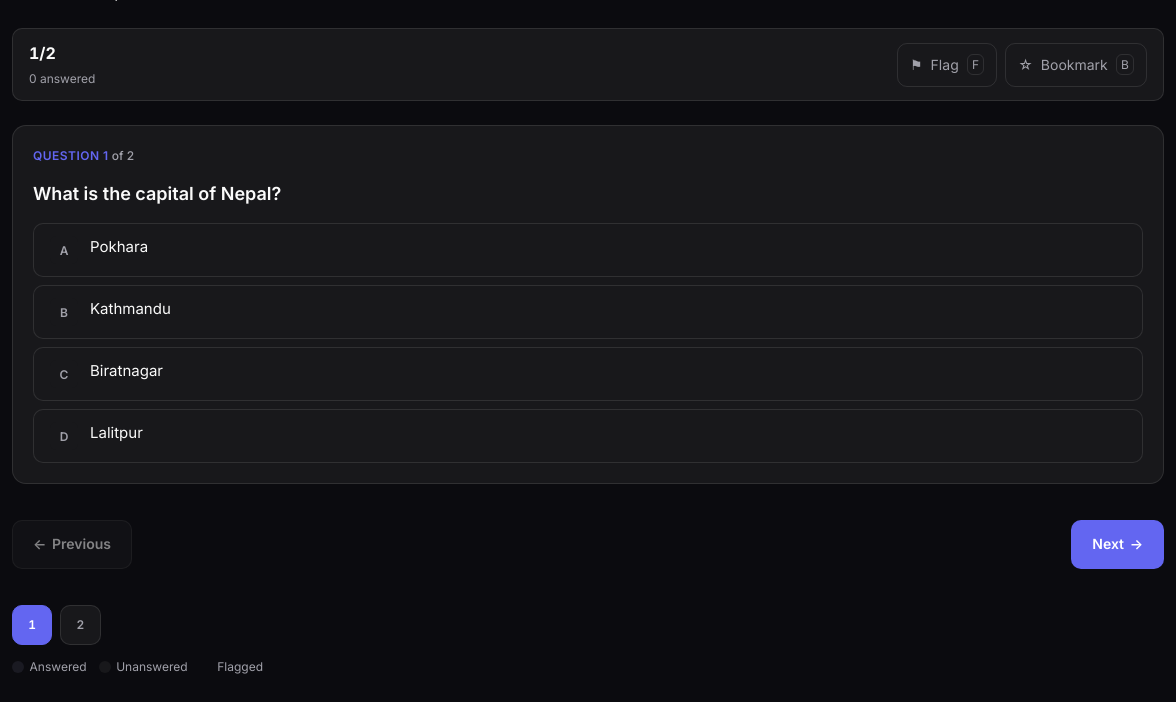
Test case: TopicPractice › keeps the chosen answer and its verdict when navigating back
Expected: the text "Question 1" is shown, [33, 146, 134, 165]
Note: Answer question 1 correctly.
Click the text "Kathmandu": click(130, 309) [90, 298, 171, 320]
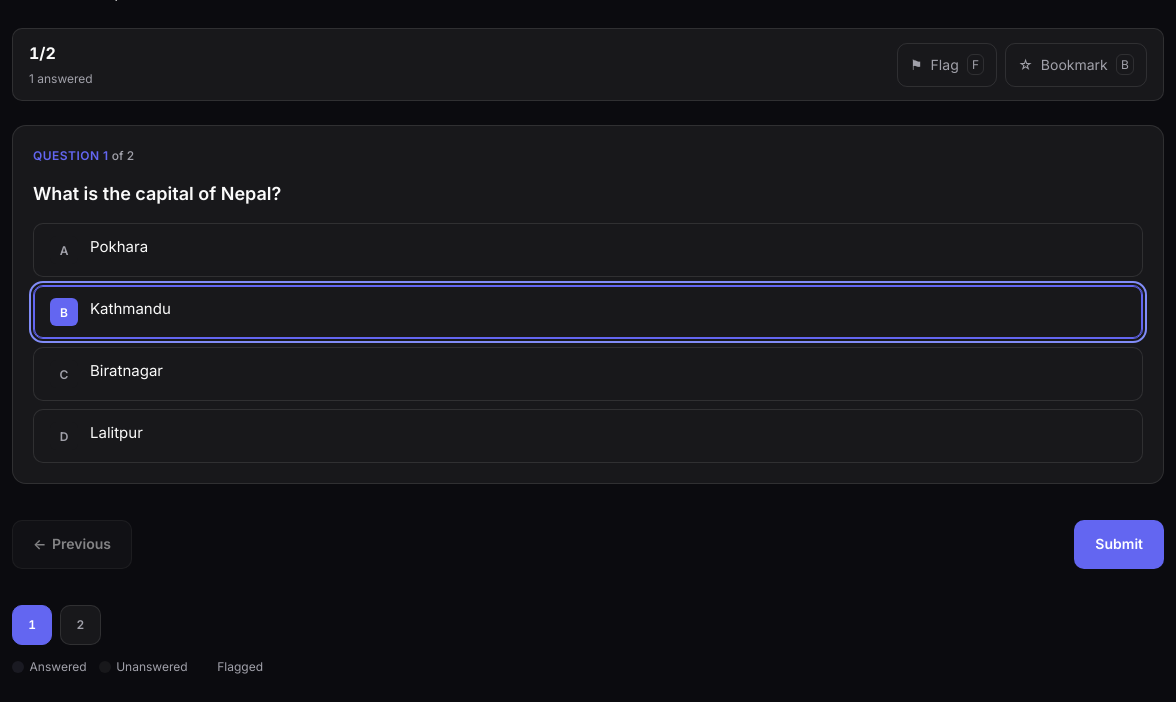
Click the button "Submit": click(1119, 545) [1074, 520, 1164, 569]
(page scrolled)
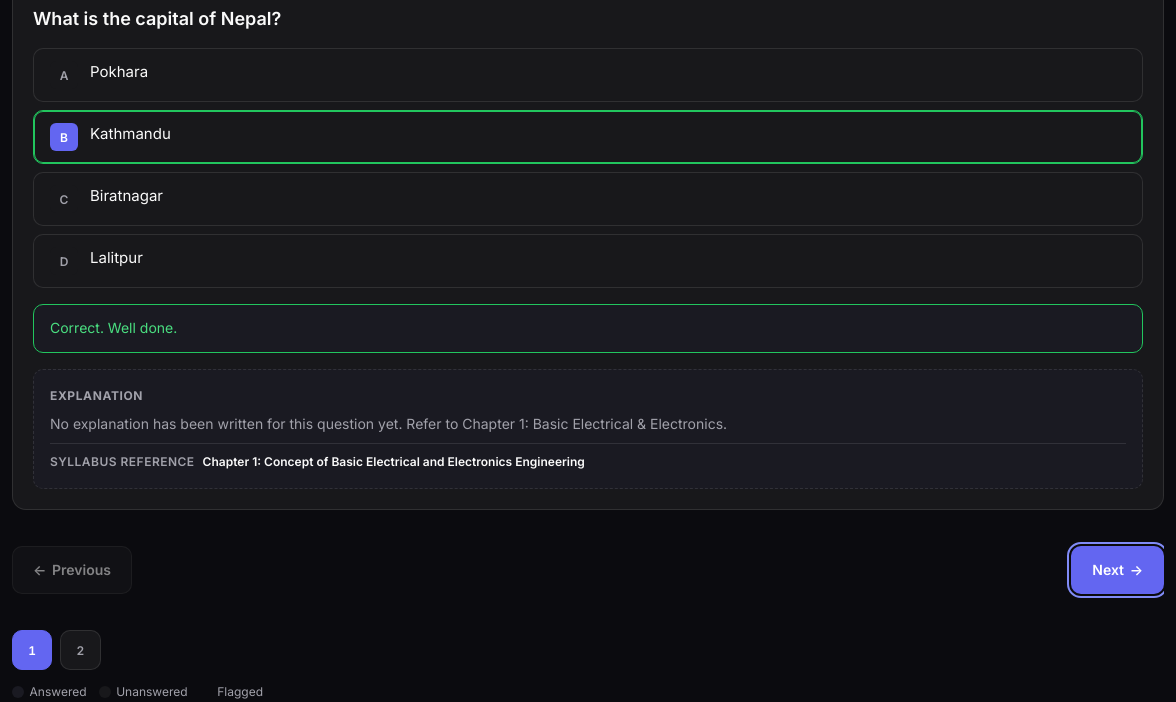
Now the message shows "Correct", box [50, 320, 177, 336]
Note: Move forward, then back.
Click the button "Next →": click(1118, 570) [1071, 546, 1164, 594]
(page scrolled)
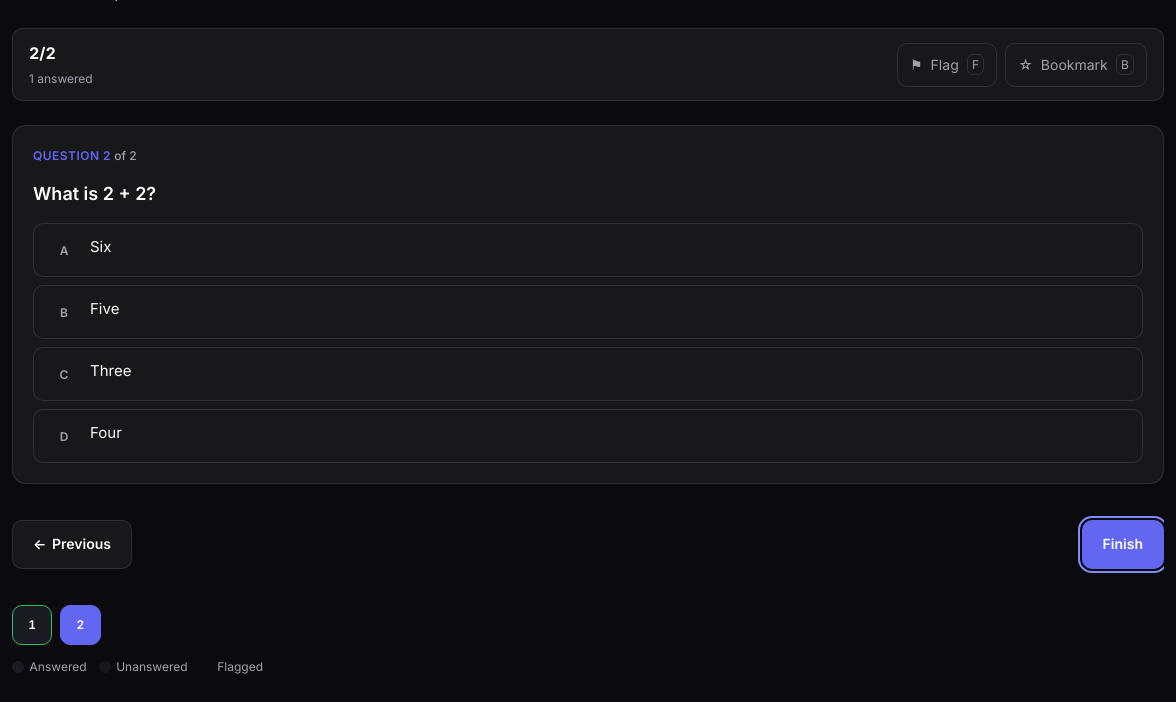
Now the text "Question 2" is shown, box [33, 146, 137, 165]
Click the button "← Previous": click(72, 545) [12, 520, 132, 569]
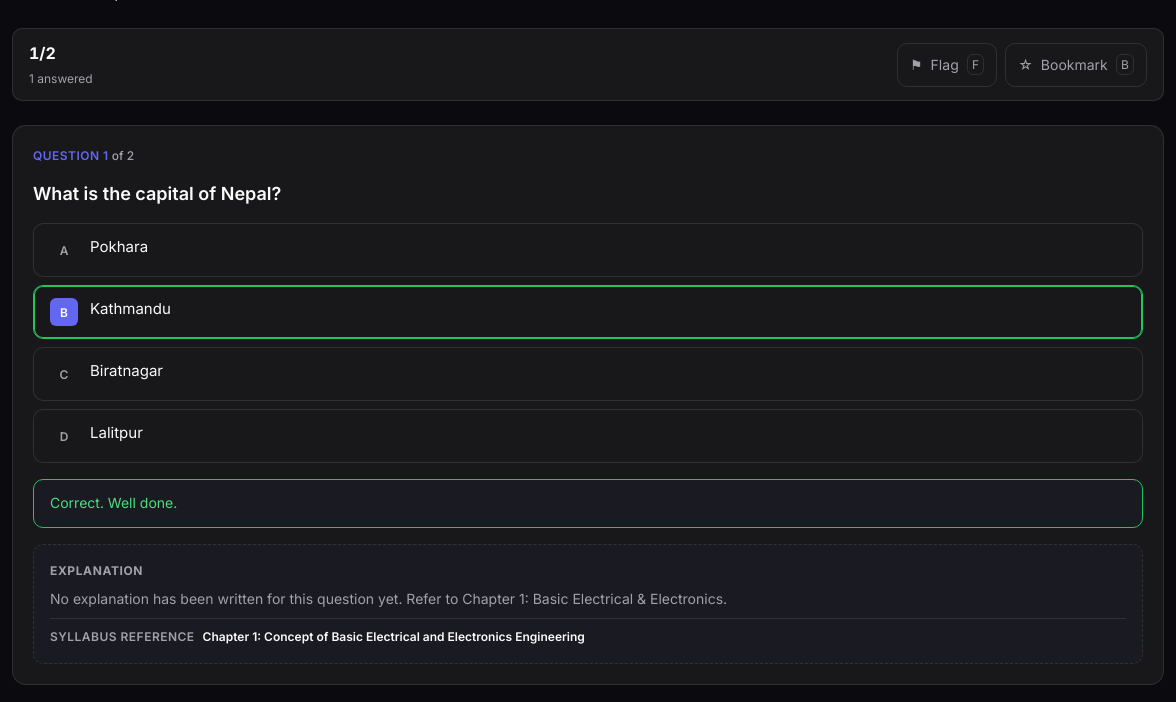
Now the radio button labelled "B Kathmandu" is checked, box [33, 286, 1143, 340]
Now the text "Question 1" is shown, box [33, 146, 134, 165]
Now the message shows "Correct", box [50, 494, 177, 512]
